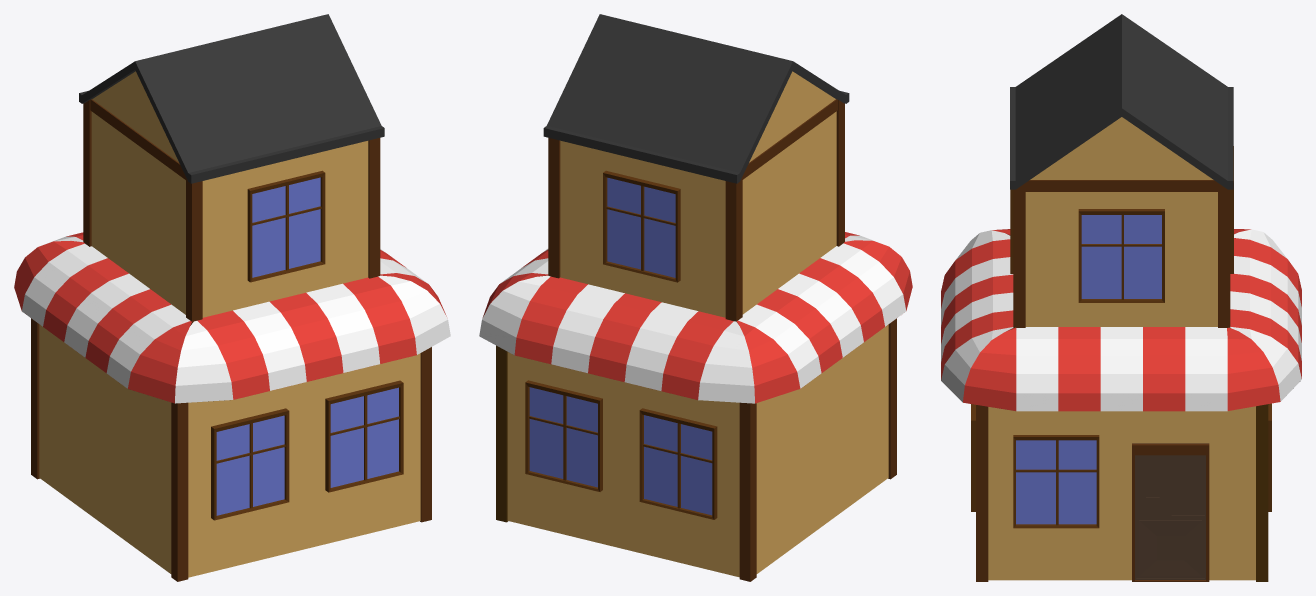
File: house5.fbx
The picture shows the model from 3 angles, left to right: view 1: azimuth 30°, elevation 25°; view 2: azimuth 150°, elevation 25°; view 3: azimuth 270°, elevation 25°; orthographic projection.
Parts seen in each view (by area): view 1: Cube, Cube.002, Cube.003, Cube.004, Cube.008, Cube.012, Cube.017, Cube.011, Cube.014, Cube.013, Cube.016, Cube.019; view 2: Cube, Cube.002, Cube.006, Cube.009, Cube.005, Cube.013, Cube.016, Cube.010, Cube.015, Cube.012, Cube.017, Cube.019; view 3: Cube, Cube.002, Cube.057, Cube.007, Cube.001, Cube.018, Cube.010, Cube.011, Cube.014, Cube.015, Cube.003.
Boxes of the visible parts, x1,y1,x2,y2 form: Cube: (39, 14, 420, 577); Cube.002: (14, 232, 450, 403); Cube.003: (325, 380, 403, 492); Cube.004: (211, 408, 289, 520); Cube.008: (247, 170, 325, 282); Cube.012: (171, 402, 188, 581); Cube.017: (186, 177, 202, 325); Cube.011: (420, 347, 431, 522); Cube.014: (368, 138, 380, 278); Cube.013: (31, 318, 39, 479); Cube.016: (83, 100, 91, 246); Cube.019: (90, 99, 185, 179); Cube: (507, 14, 888, 577); Cube.002: (479, 232, 912, 403); Cube.006: (639, 408, 717, 519); Cube.009: (603, 170, 680, 282); Cube.005: (525, 380, 602, 491); Cube.013: (739, 402, 756, 581); Cube.016: (725, 177, 742, 322); Cube.010: (496, 345, 508, 522); Cube.015: (548, 138, 560, 278); Cube.012: (888, 318, 896, 479); Cube.017: (836, 100, 844, 246); Cube.019: (742, 99, 837, 179); Cube: (988, 14, 1255, 580); Cube.002: (941, 229, 1301, 411); Cube.057: (1132, 443, 1209, 581); Cube.007: (1078, 209, 1164, 302); Cube.001: (1013, 435, 1099, 528); Cube.018: (1018, 180, 1227, 191); Cube.010: (1256, 404, 1268, 581); Cube.011: (976, 405, 988, 581); Cube.014: (1013, 183, 1025, 327); Cube.015: (1218, 183, 1230, 327); Cube.003: (971, 404, 975, 511).
Size of the model in its own units: 471 by 659 by 470.
